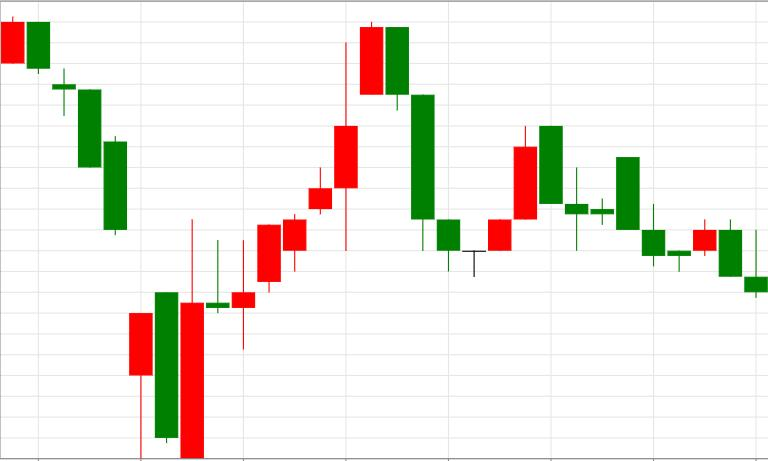hammer_rise: (26, 22, 153, 459)
morning_star_rise: (386, 26, 511, 277)
three_black_crows_fall: (232, 21, 460, 351)
